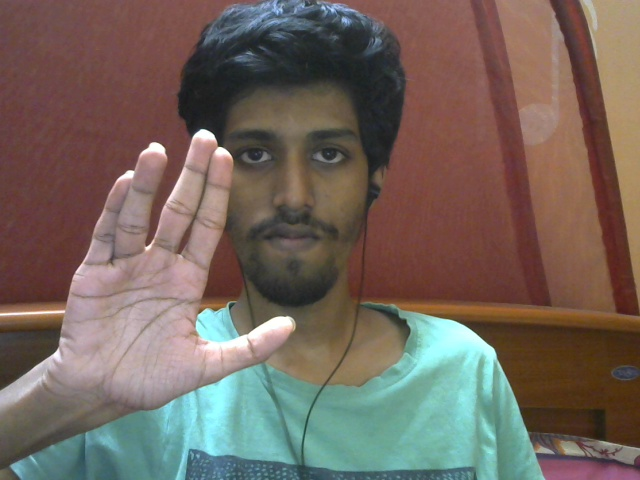LiveLong: (42, 128, 296, 418)
